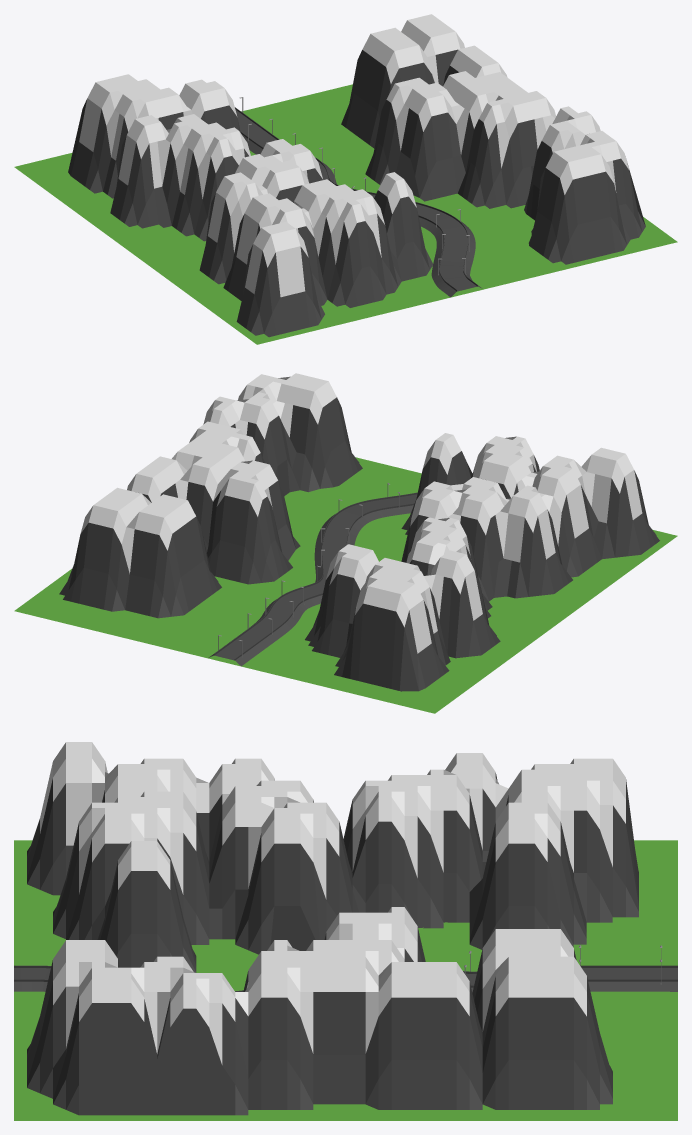
3 views of the same model, one above another, from view 1: azimuth 30°, elevation 25°; view 2: azimuth 150°, elevation 25°; view 3: azimuth 270°, elevation 25° (orthographic). The views are drawn at different scales.
Parts seen in each view (by area): view 1: Cube; view 2: Cube; view 3: Cube.
Boxes of the visible parts, x1,y1,x2,y2 form: Cube: (14,14,677,344); Cube: (14,373,677,713); Cube: (14,742,677,1120).
Size of the model in its own units: 20000 by 4016 by 20000.
